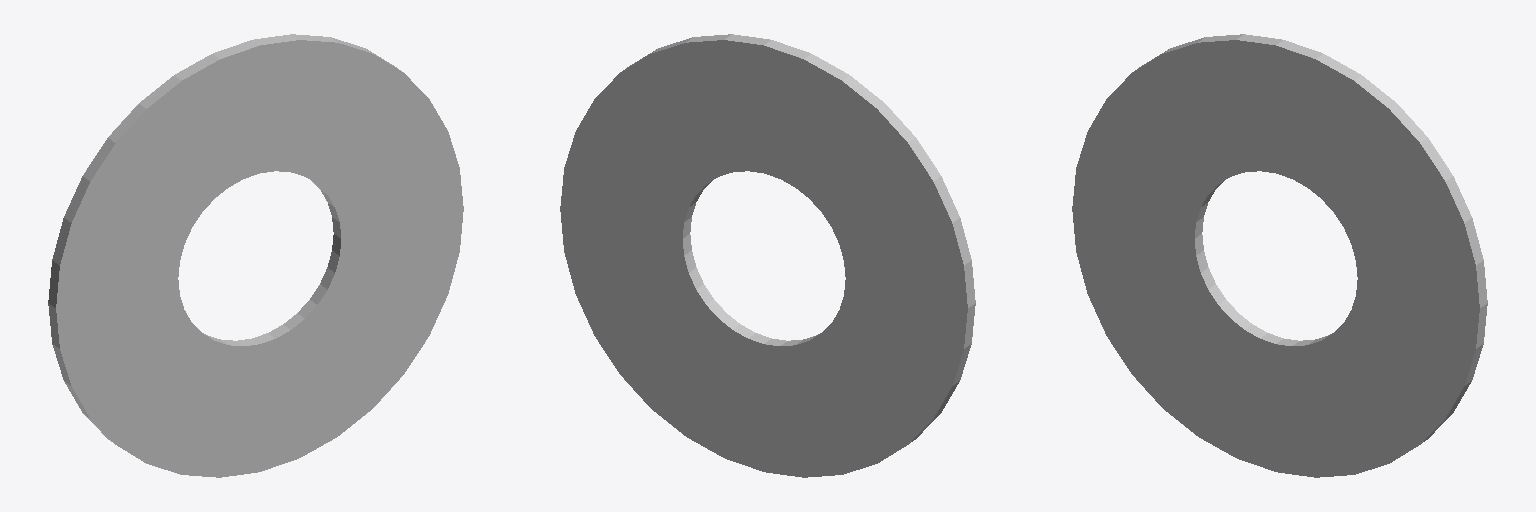
Rendered from Eye.obj.
The picture shows the model from 3 angles: view 1: azimuth 30°, elevation 25°; view 2: azimuth 150°, elevation 25°; view 3: azimuth 330°, elevation 25°; orthographic projection.
Parts seen in each view (by area): view 1: Circle_Circle.001; view 2: Circle_Circle.001; view 3: Circle_Circle.001.
Part boxes in pixels (x1,y1,x2,y2): Circle_Circle.001: (48,34,463,477); Circle_Circle.001: (560,34,975,477); Circle_Circle.001: (1072,34,1487,477).
Bounding box in the file's own units: 0.6 × 0.6 × 0.02.